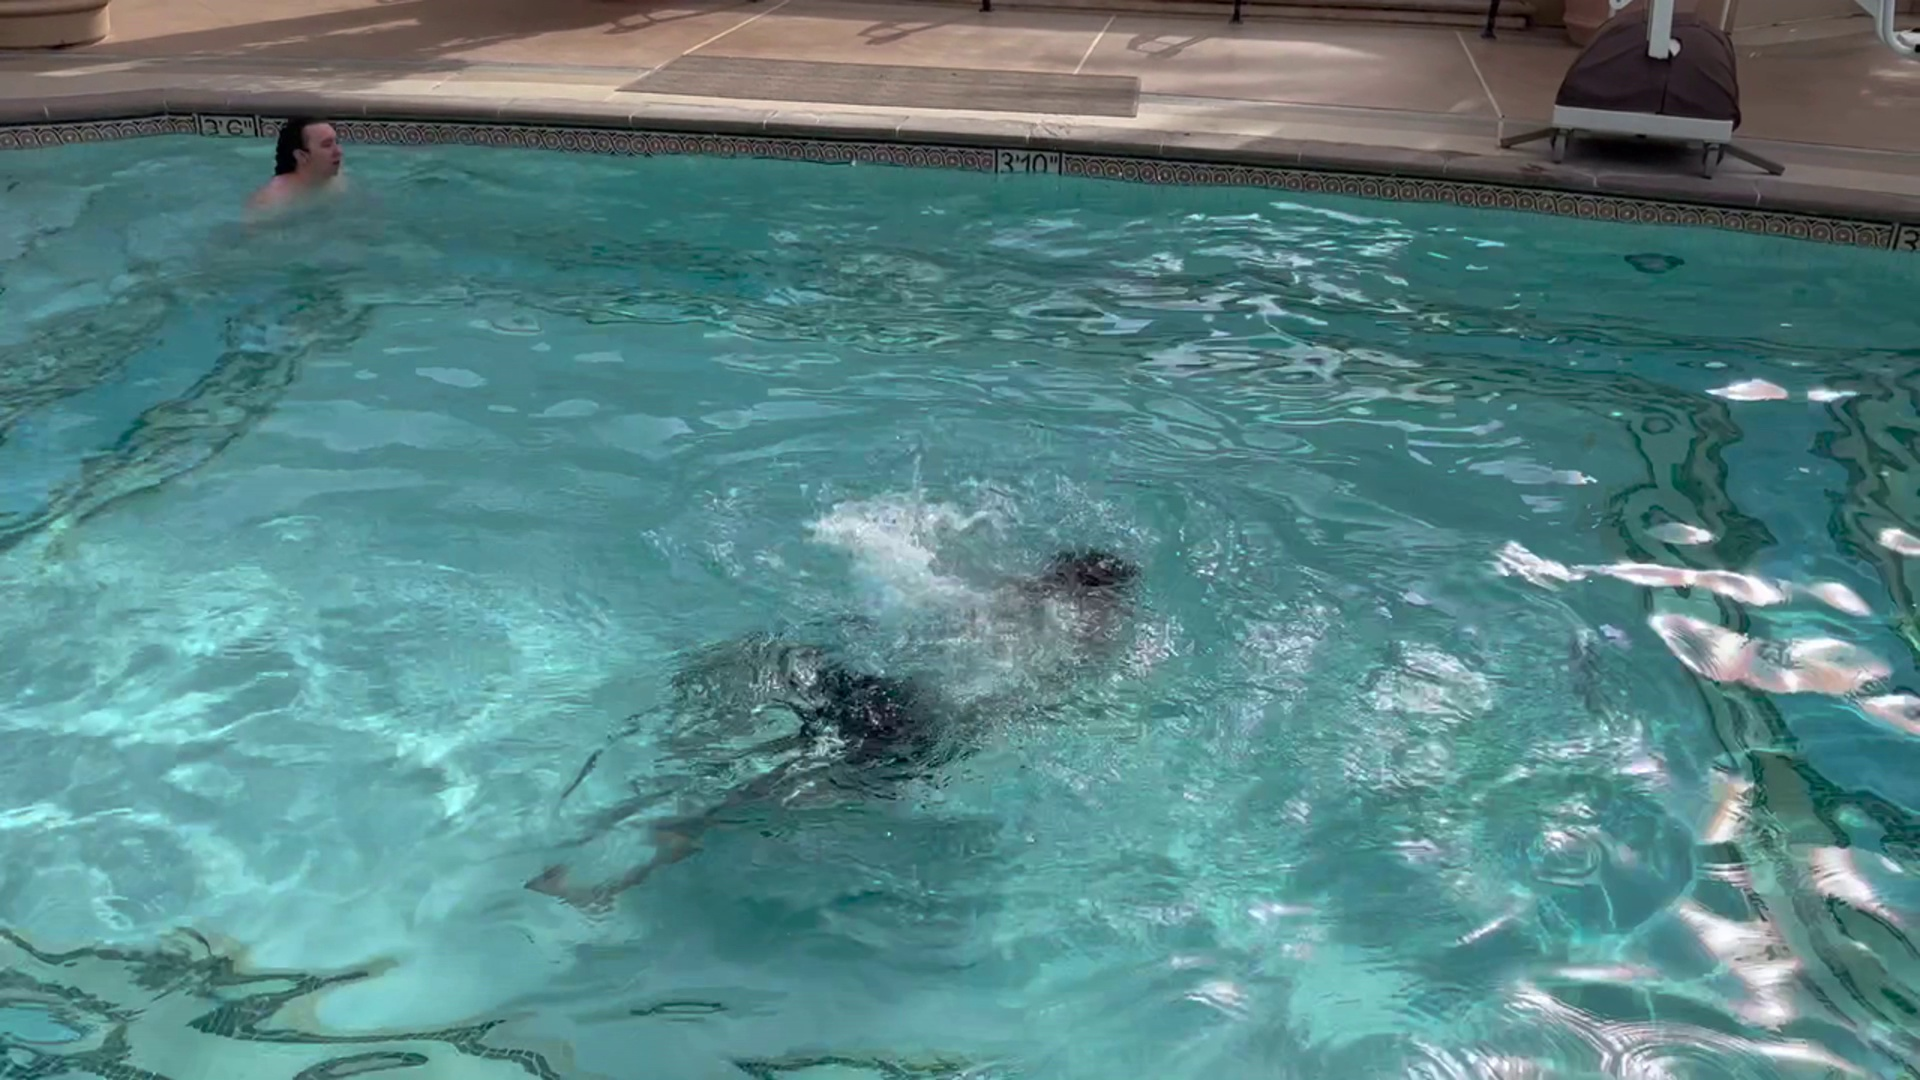danger: (803, 438, 1211, 760)
